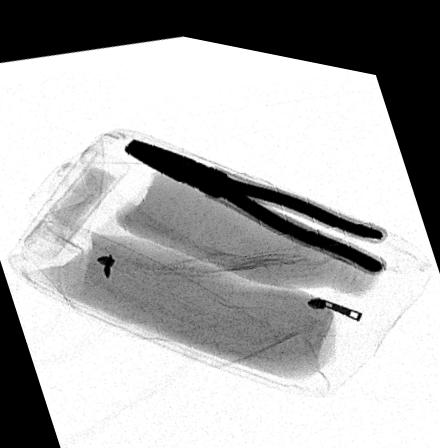Pliers: (122, 133, 386, 259)
